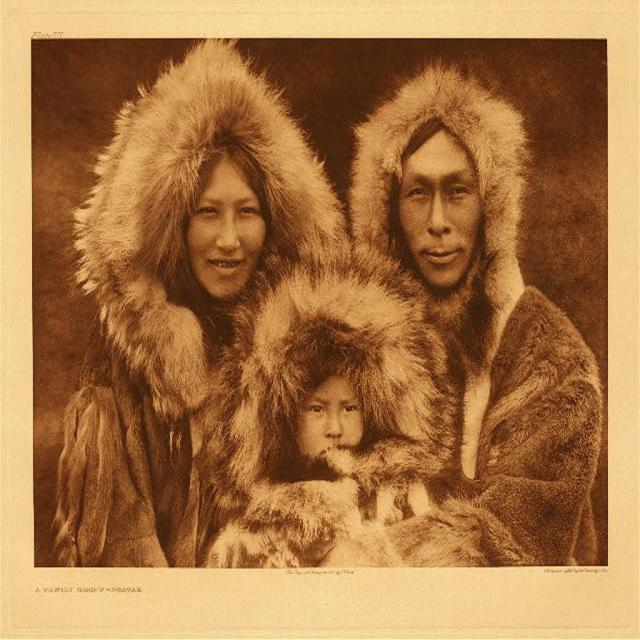nomask: (399, 132, 481, 291), (188, 158, 264, 298), (297, 368, 363, 463)
